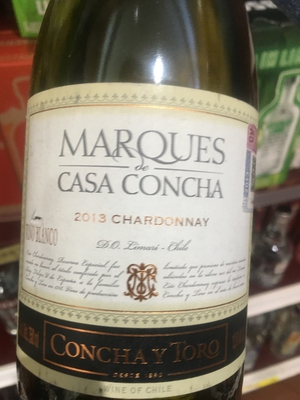marques de casa concha chardonnay: (19, 19, 280, 400)
